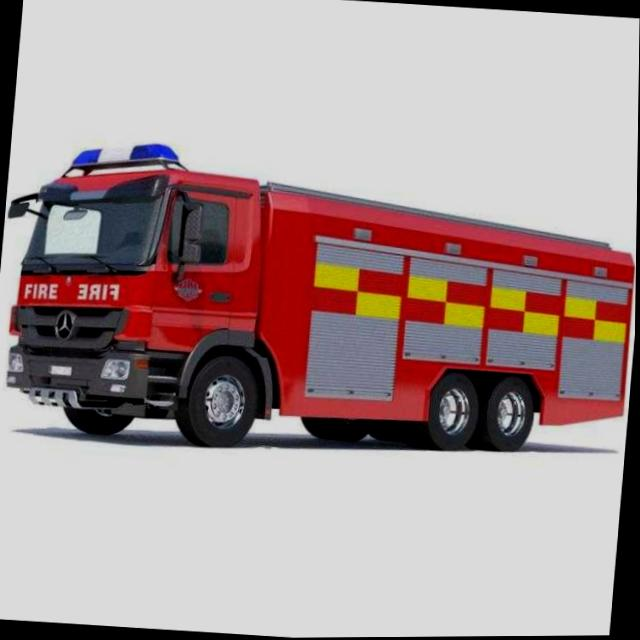emergency: (0, 129, 638, 476)
